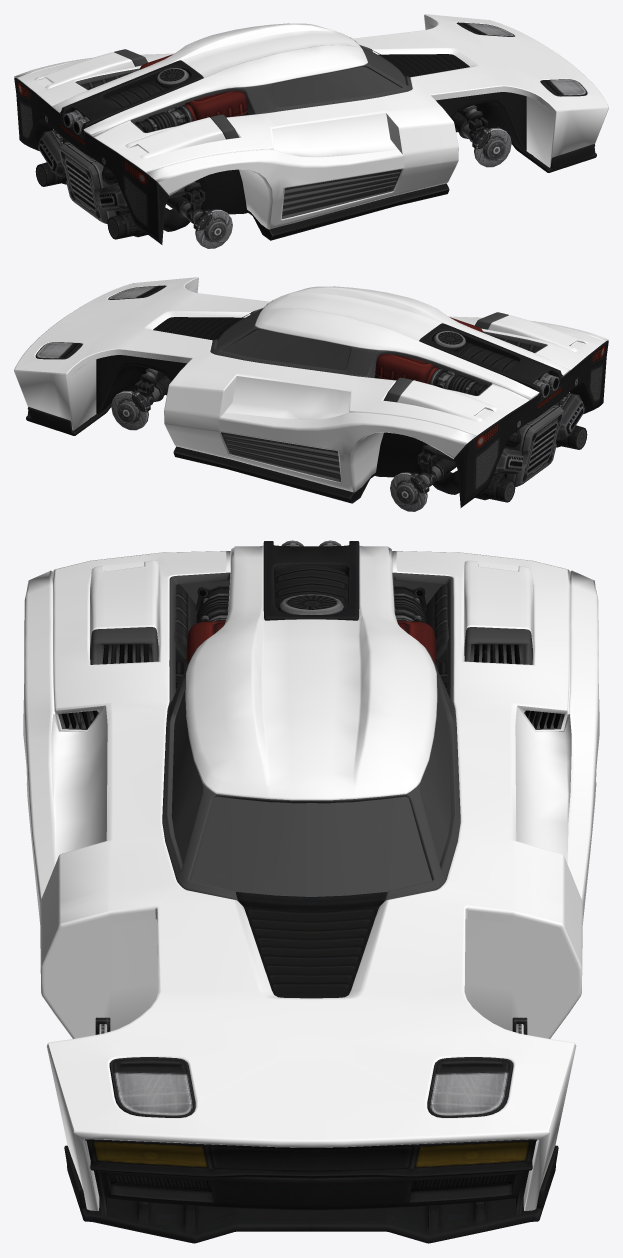
Rendered from breakout.glb.
3 views of the same model, one above another, from view 1: azimuth 30°, elevation 25°; view 2: azimuth 150°, elevation 25°; view 3: azimuth 270°, elevation 25° (orthographic). The views are drawn at different scales.
Visible parts, largest first — view 1: Breakout_Body, Breakout_Chassis; view 2: Breakout_Body, Breakout_Chassis; view 3: Breakout_Body, Breakout_Chassis.
Boxes of the visible parts, box(x1,y1,x2,y2) form: Breakout_Body: box(14, 14, 608, 229); Breakout_Chassis: box(14, 22, 596, 248); Breakout_Body: box(14, 277, 608, 492); Breakout_Chassis: box(26, 285, 608, 511); Breakout_Body: box(23, 545, 599, 1210); Breakout_Chassis: box(62, 540, 560, 1243).
Bounding box in the file's own units: 1.49 × 0.4064 × 0.7522.
Materials: 2 (2 with a texture image).
